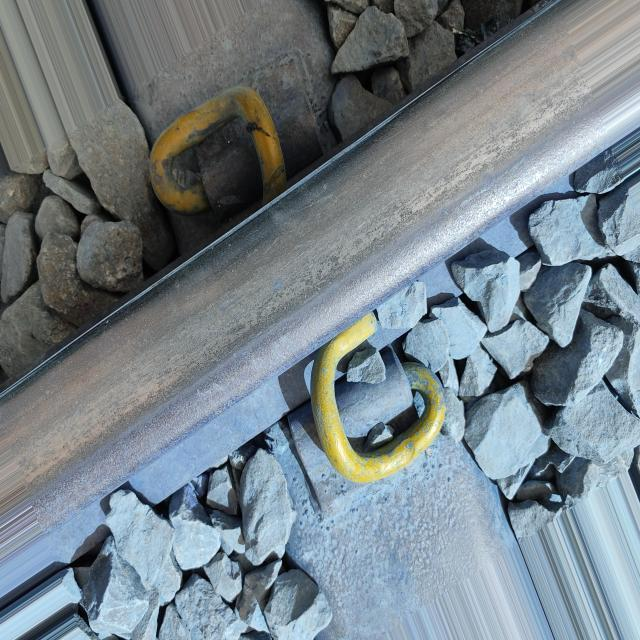Good Fasteners: (287, 315, 517, 638), (145, 2, 322, 251)
